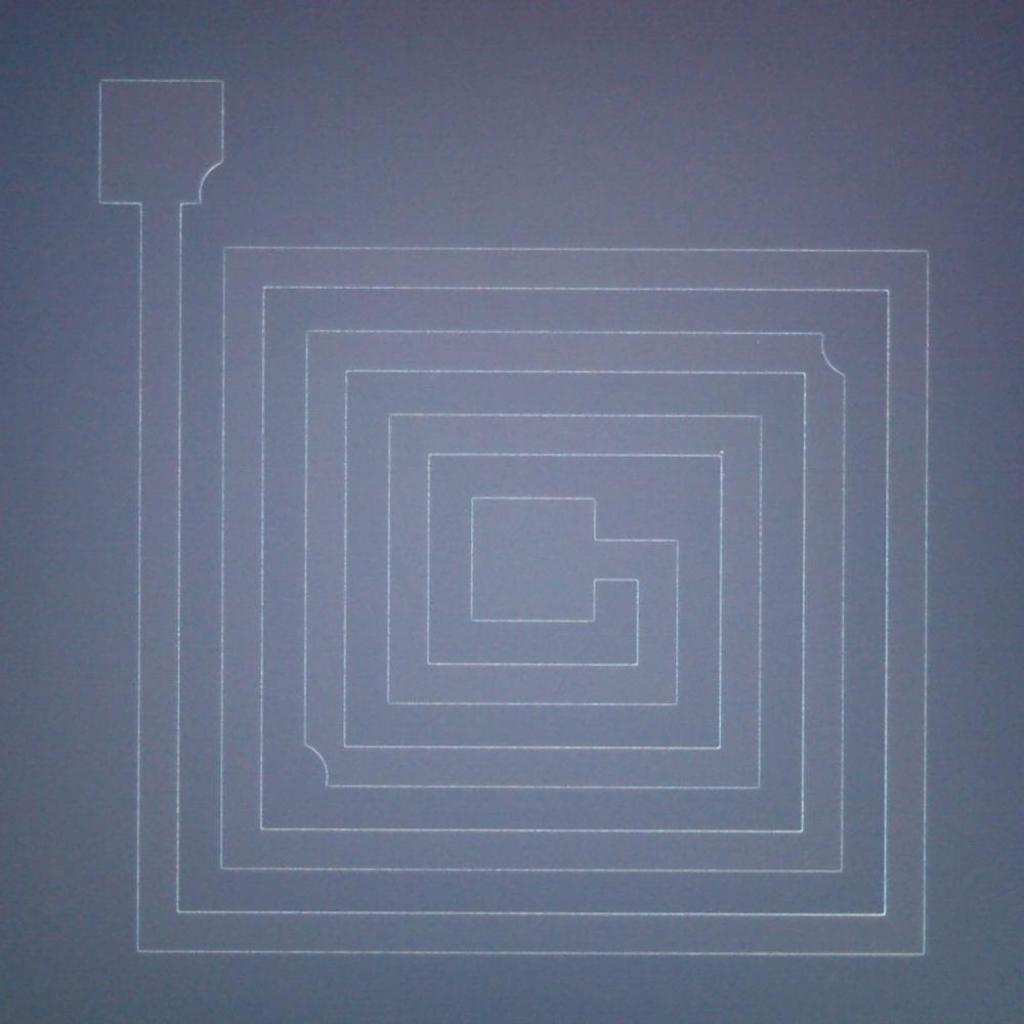curve circuit: (186, 146, 236, 213), (296, 733, 340, 803), (814, 322, 858, 385)
